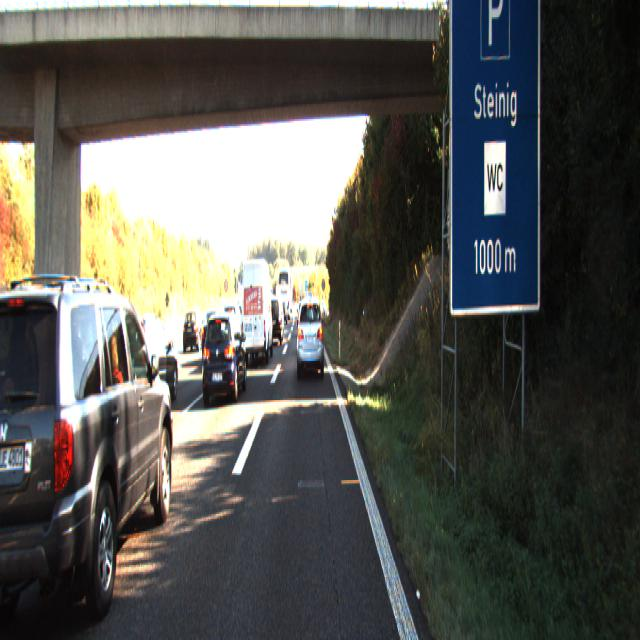Car: (0, 268, 179, 639), (112, 312, 180, 418), (59, 307, 126, 406), (201, 310, 247, 407), (240, 256, 274, 365), (0, 330, 27, 458), (296, 293, 324, 376), (266, 300, 283, 349)
